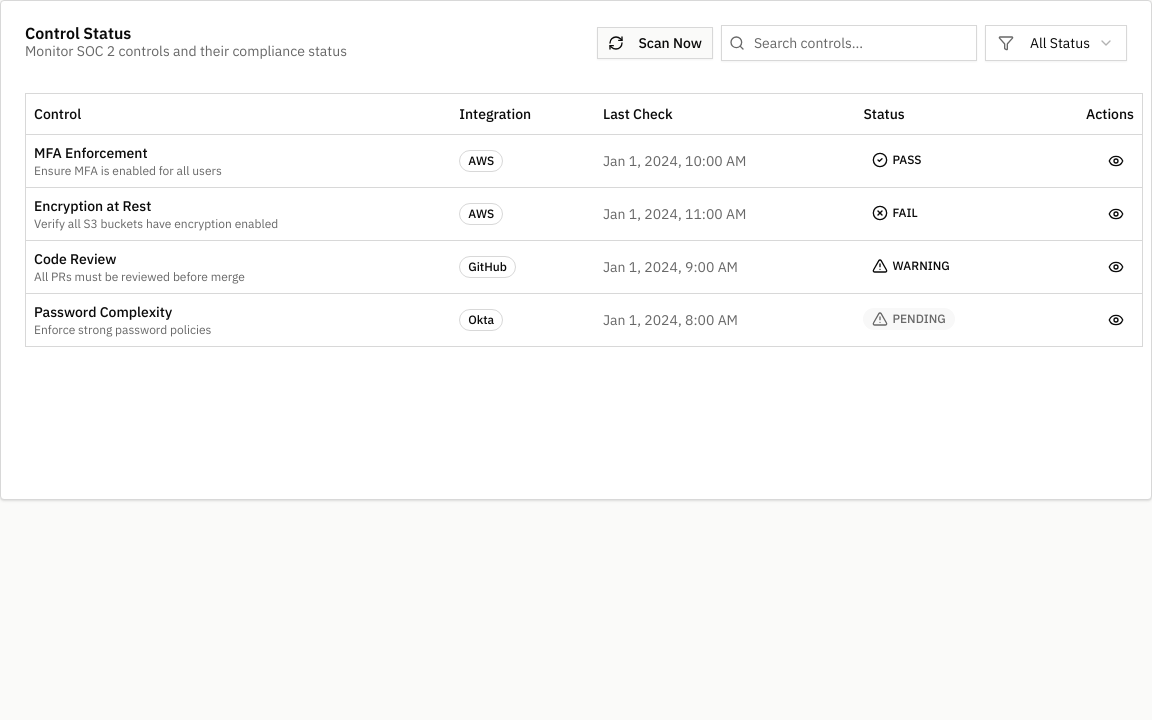
Scenario: ControlStatus › Search Functionality › should filter controls by name
Step 1. Type "MFA" into the field with placeholder "Search controls..." → coordinates (849, 43), box [721,25,977,61]
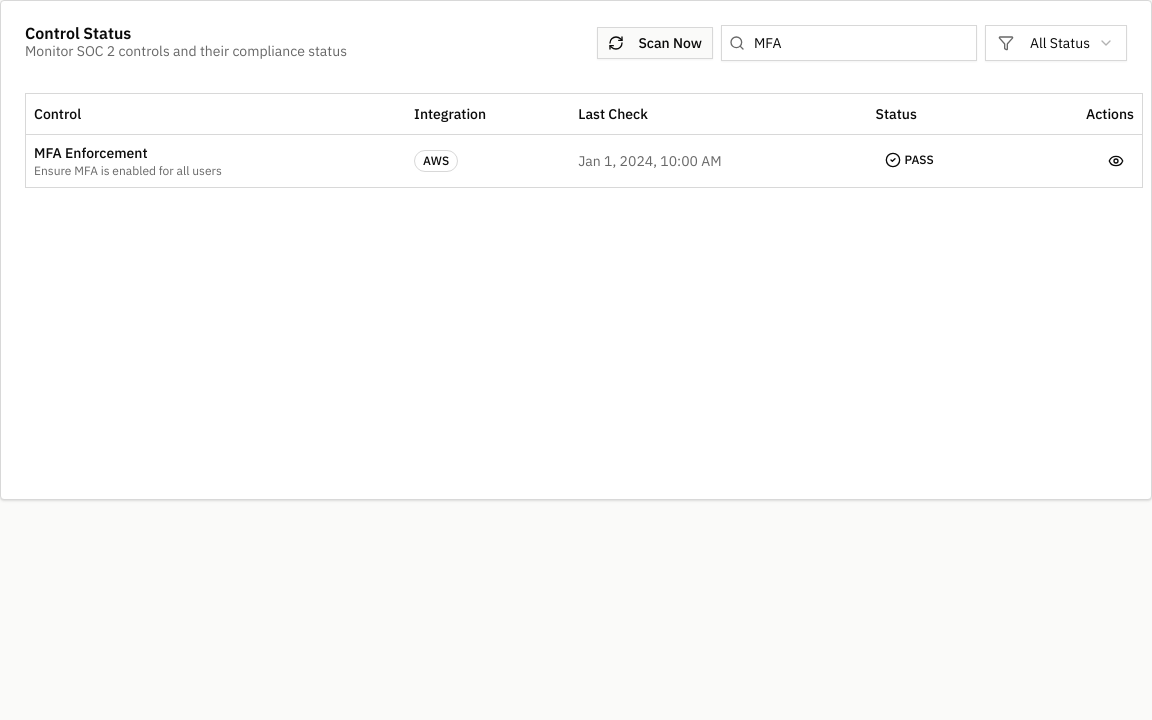
Expected: the text "MFA Enforcement" is shown, [34,144,148,162]
Expected: the text "Encryption at Rest" is gone
Expected: the text "Code Review" is gone
